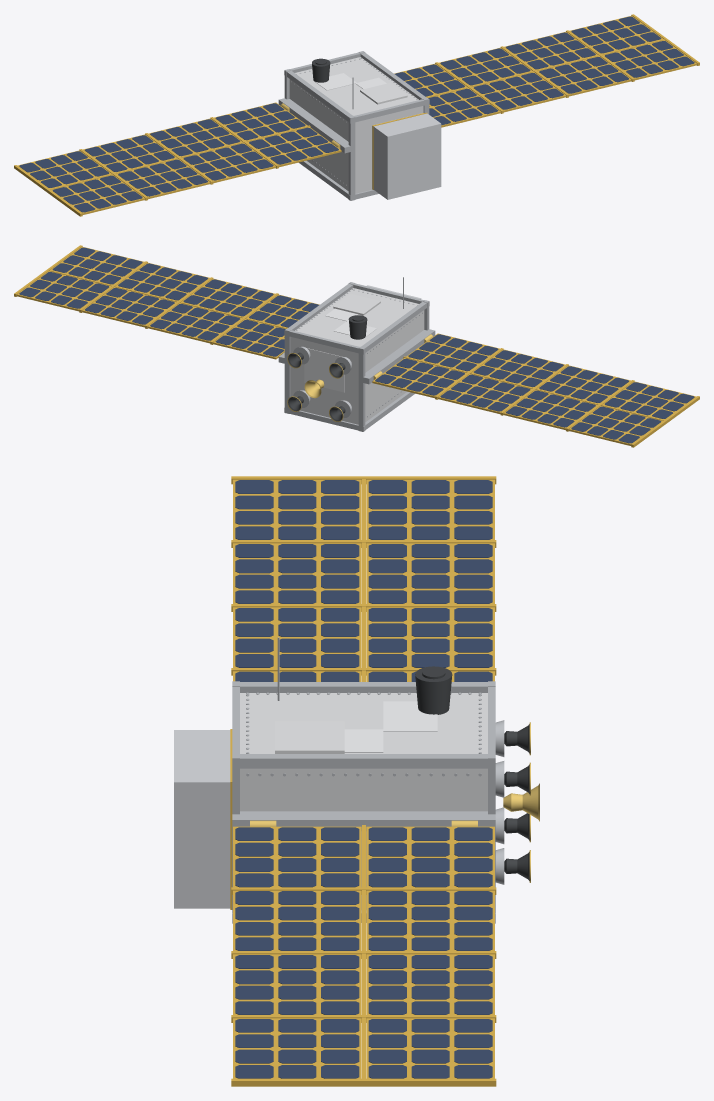
3 renders of one model, top to bottom at view 1: azimuth 30°, elevation 25°; view 2: azimuth 150°, elevation 25°; view 3: azimuth 270°, elevation 25°, orthographic. The views are drawn at different scales.
Visible parts, largest first — view 1: Wing_Left, Wing_Right, Body, Rear_Module, Antennas_Sensors; view 2: Wing_Left, Wing_Right, Body, Thrusters, Antennas_Sensors; view 3: Wing_Right, Wing_Left, Body, Rear_Module, Thrusters, Antennas_Sensors.
Part boxes in pixels (x1,y1,x2,y2): Wing_Left: [14, 98, 354, 216]; Wing_Right: [394, 14, 699, 127]; Body: [284, 51, 429, 200]; Rear_Module: [372, 112, 441, 199]; Antennas_Sensors: [312, 58, 407, 109]; Wing_Left: [363, 329, 699, 447]; Wing_Right: [14, 245, 319, 363]; Body: [284, 282, 429, 431]; Thrusters: [287, 346, 351, 421]; Antennas_Sensors: [333, 277, 403, 339]; Wing_Right: [231, 811, 496, 1086]; Wing_Left: [231, 476, 496, 681]; Body: [232, 681, 495, 923]; Rear_Module: [174, 729, 232, 909]; Thrusters: [495, 720, 539, 884]; Antennas_Sensors: [275, 637, 452, 753].
Bounding box in the file's own units: 1.85 × 0.34 × 0.472.
